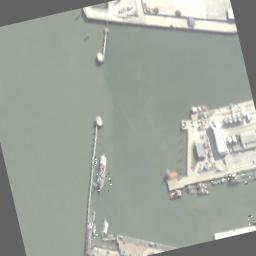boat: (90, 154, 112, 194), (229, 171, 256, 187), (166, 186, 182, 203), (208, 174, 226, 186), (194, 186, 210, 196), (166, 168, 181, 178), (186, 188, 196, 198), (92, 221, 97, 238), (249, 214, 256, 226)
